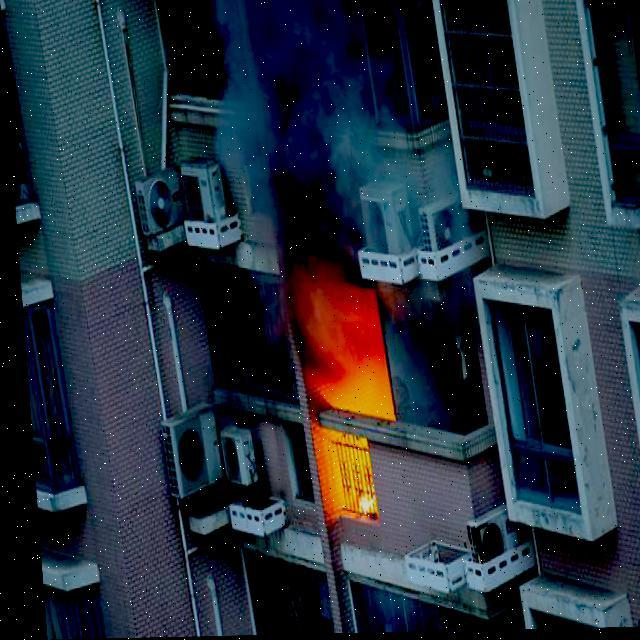Fire: (286, 280, 400, 535)
